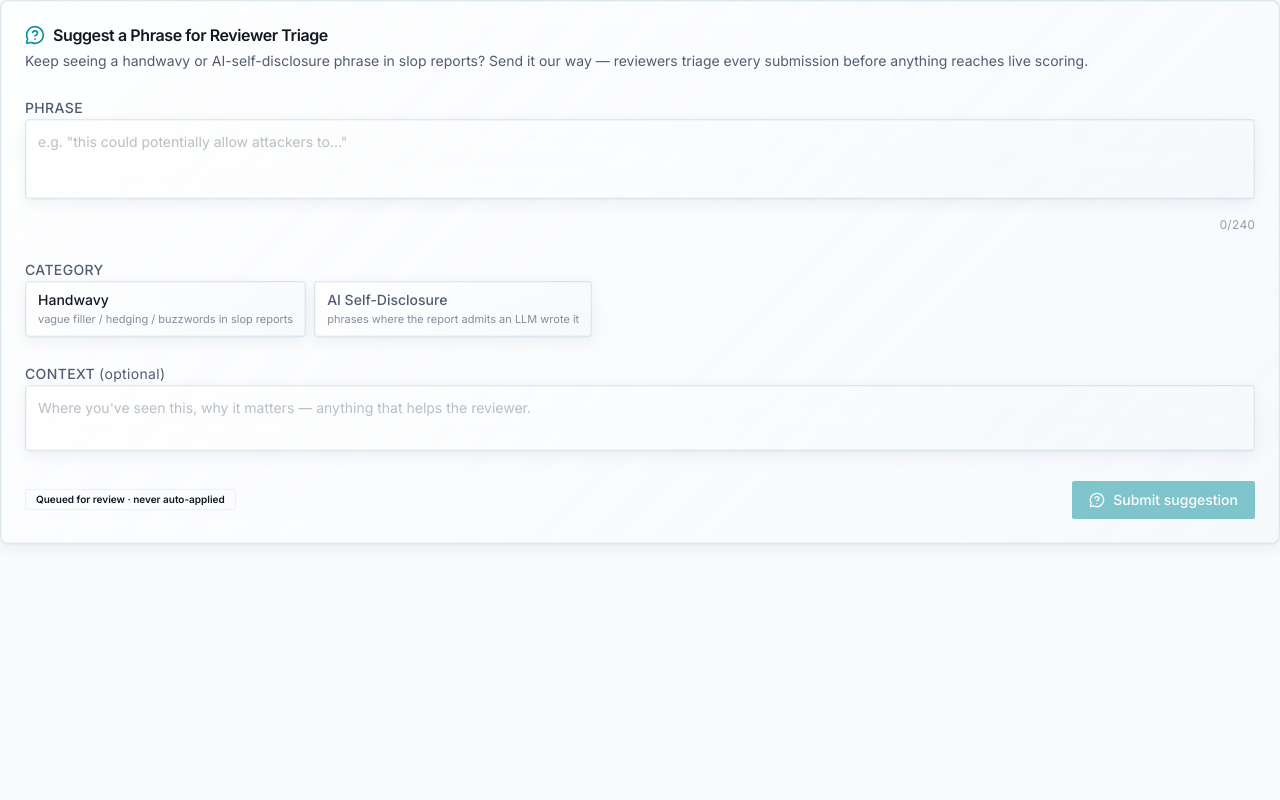
Test: PhraseSuggestionForm › disables the submit button until the phrase reaches the minimum length
Check: the button with test id "phrase-suggestion-submit" is disabled, box left=1072, top=481, right=1255, bottom=519
In the text box with test id "phrase-suggestion-text": (640, 159) left=25, top=119, right=1255, bottom=199, type "ab"
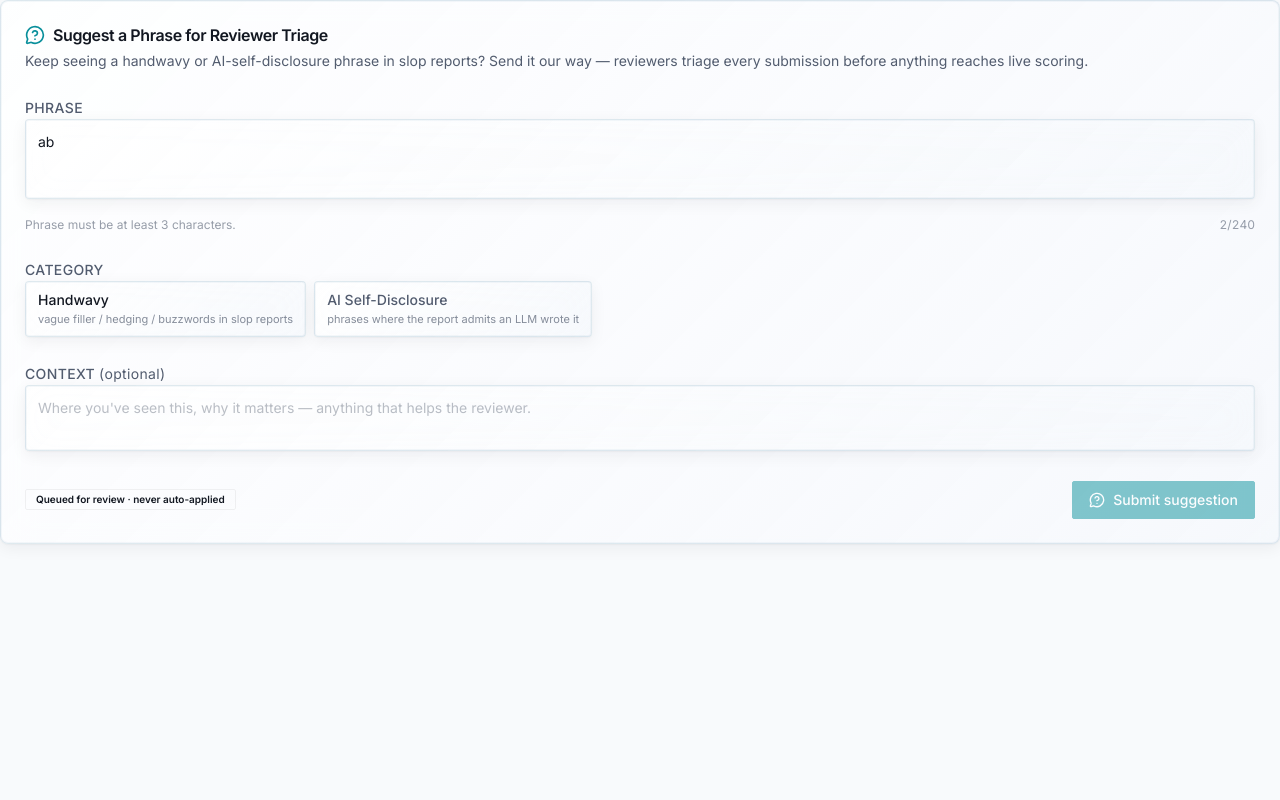
Check: the button with test id "phrase-suggestion-submit" is disabled, box left=1072, top=481, right=1255, bottom=519
Replace the text in the text box with test id "phrase-suggestion-text" with "could potentially allow attackers": (640, 159) left=25, top=119, right=1255, bottom=199
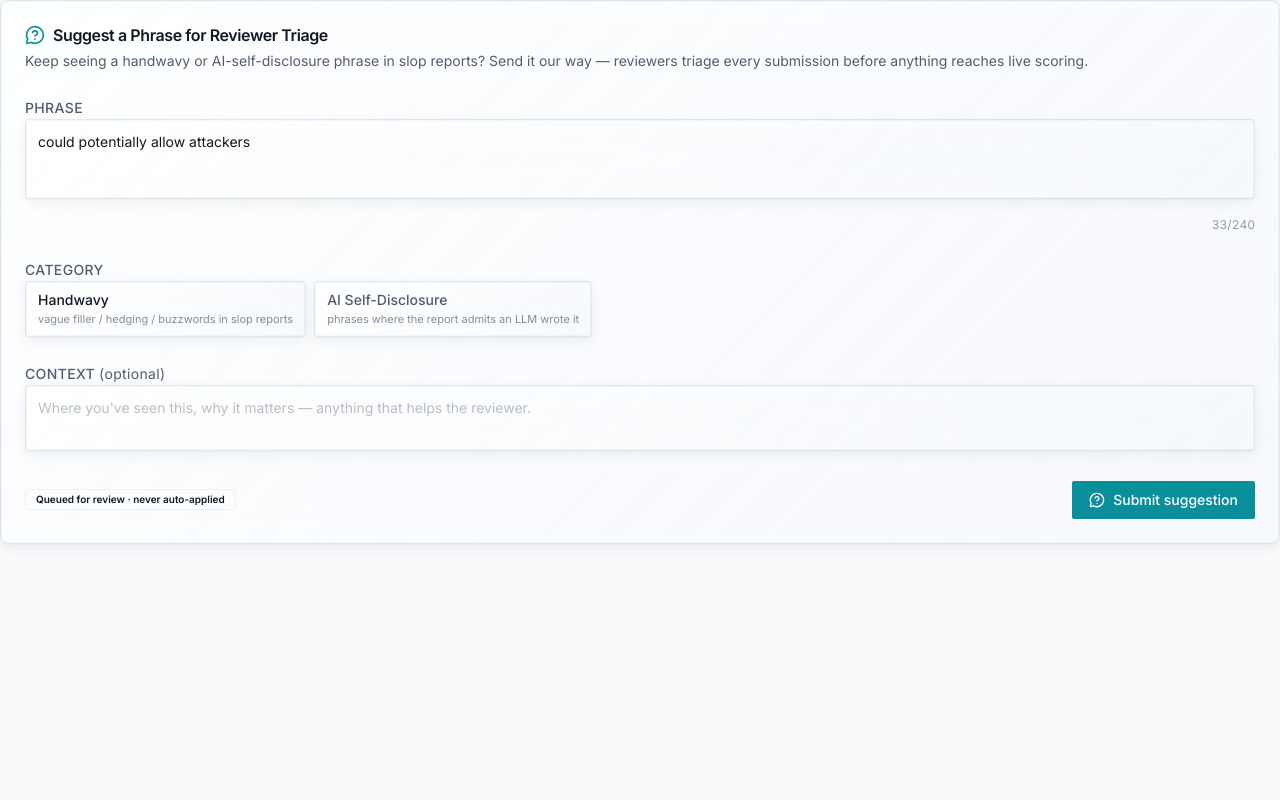
Check: the button with test id "phrase-suggestion-submit" is enabled, box left=1072, top=481, right=1255, bottom=519
